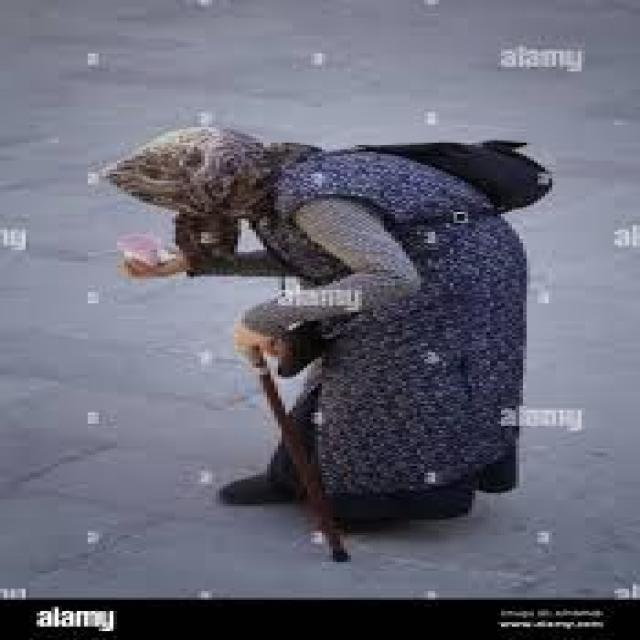idoso em pe: (101, 113, 542, 558)
